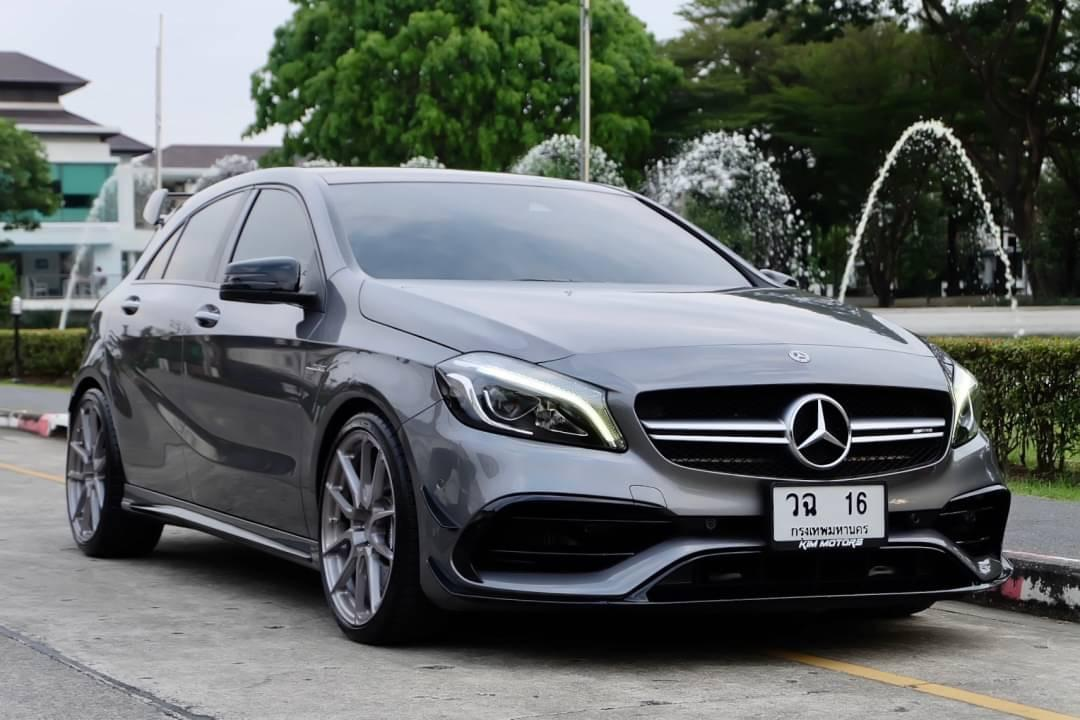license-plate: (766, 480, 892, 552)
